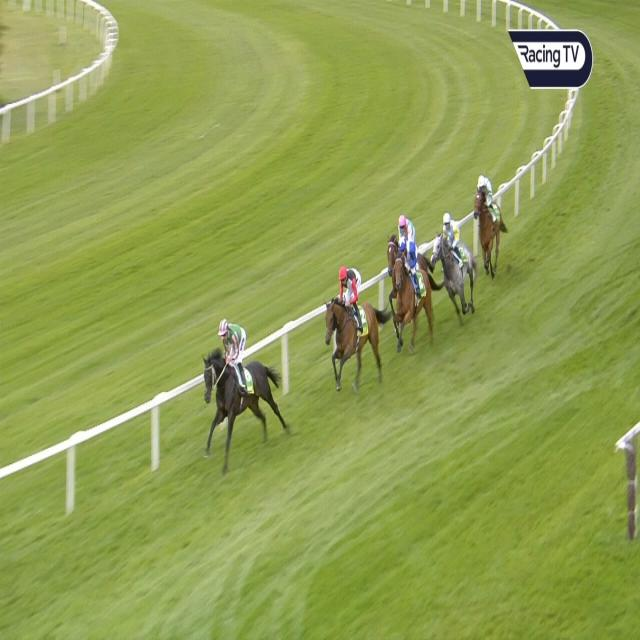horses-racing: (200, 321, 284, 441), (327, 265, 385, 387), (394, 236, 432, 352), (433, 213, 475, 315), (475, 174, 500, 268), (385, 208, 415, 268)
